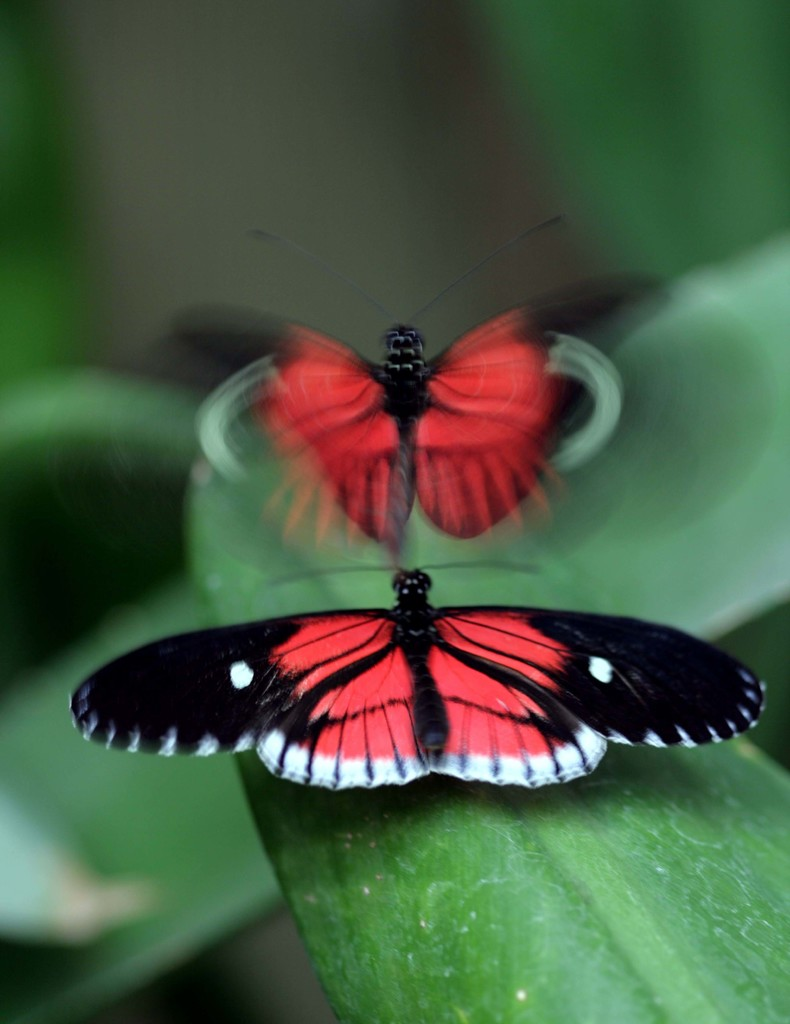Butterfly: (57, 583, 790, 817), (147, 266, 627, 547)
